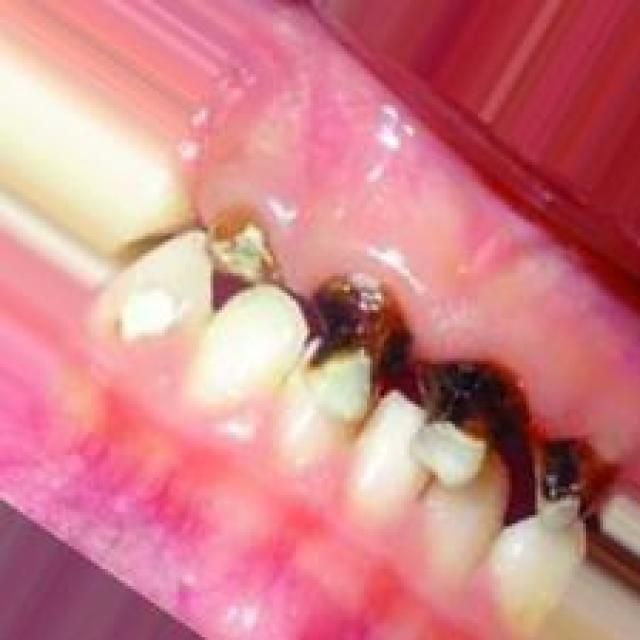caries: (406, 337, 526, 484), (303, 267, 404, 424), (524, 422, 620, 534), (191, 200, 286, 296)
